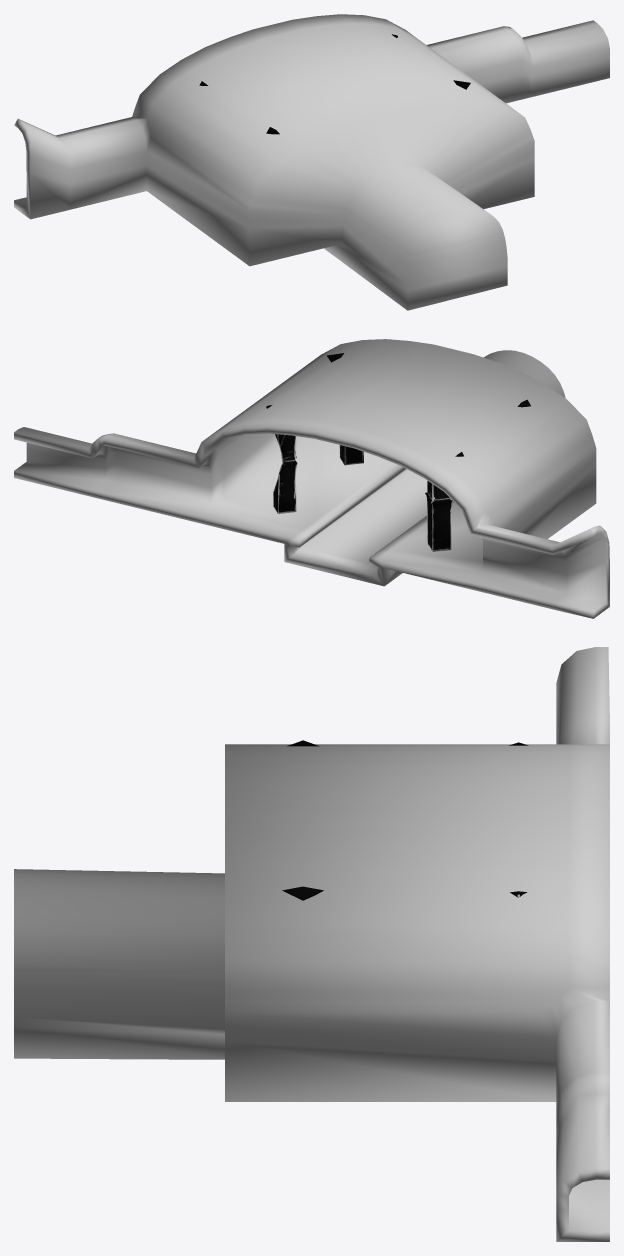
Rendered from salle3.fbx.
3 views of the same model, one above another, from view 1: azimuth 30°, elevation 25°; view 2: azimuth 150°, elevation 25°; view 3: azimuth 270°, elevation 25° (orthographic). The views are drawn at different scales.
Visible parts, largest first — view 1: Plane_004; view 2: Plane_004, Cube_003; view 3: Plane_004.
Boxes of the visible parts, bbox=[...] form: Plane_004: bbox=[14, 14, 609, 310]; Plane_004: bbox=[14, 339, 609, 618]; Cube_003: bbox=[266, 353, 530, 551]; Plane_004: bbox=[14, 647, 609, 1241].
Size of the model in its own units: 10682 by 2442 by 5904.
